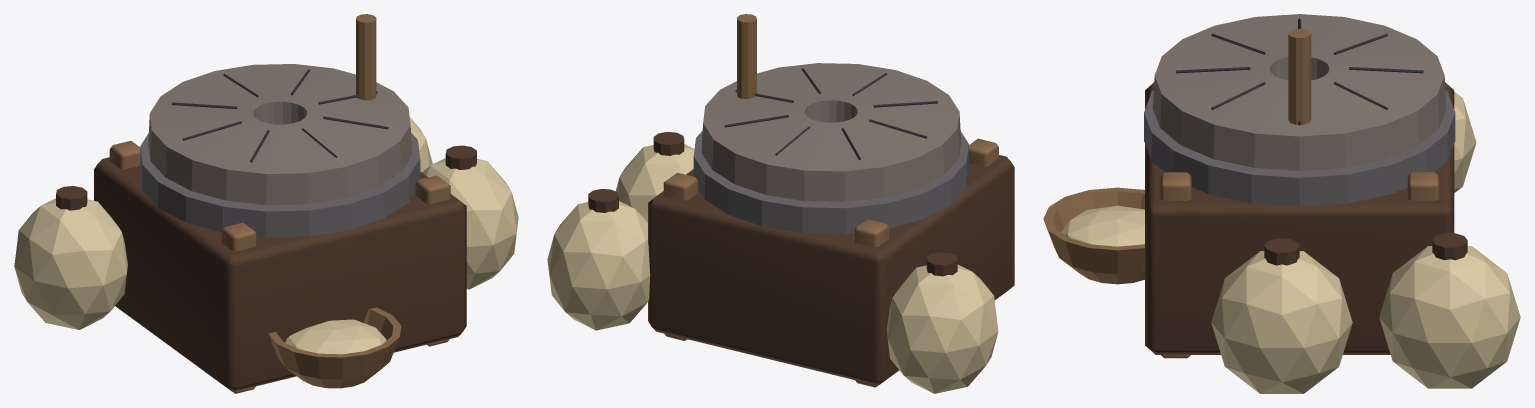
The model's file is feast_grain_station.glb.
The picture shows the model from 3 angles, left to right: view 1: azimuth 30°, elevation 25°; view 2: azimuth 150°, elevation 25°; view 3: azimuth 270°, elevation 25°; orthographic projection. The views are drawn at different scales.
Parts seen in each view (by area): view 1: feast_grain_station; view 2: feast_grain_station; view 3: feast_grain_station.
Boxes of the visible parts, x1,y1,x2,y2 form: feast_grain_station: (14,14,518,393); feast_grain_station: (547,14,1014,393); feast_grain_station: (1043,14,1520,393).
Size of the model in its own units: 3.09 by 1.96 by 2.7.
